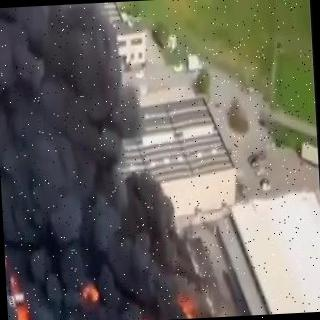smoke: (0, 6, 192, 230)
